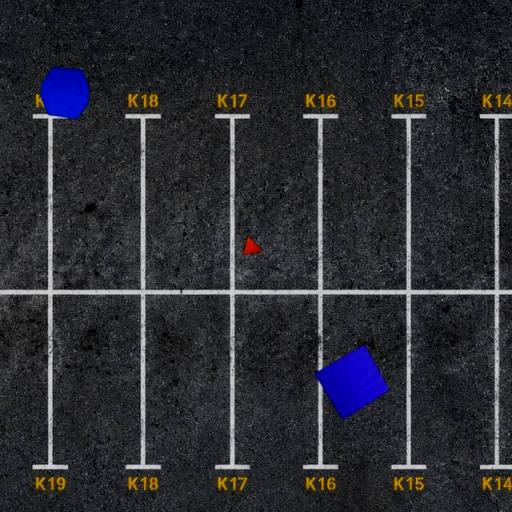BLUE_SQUARE: (314, 344, 390, 421)
